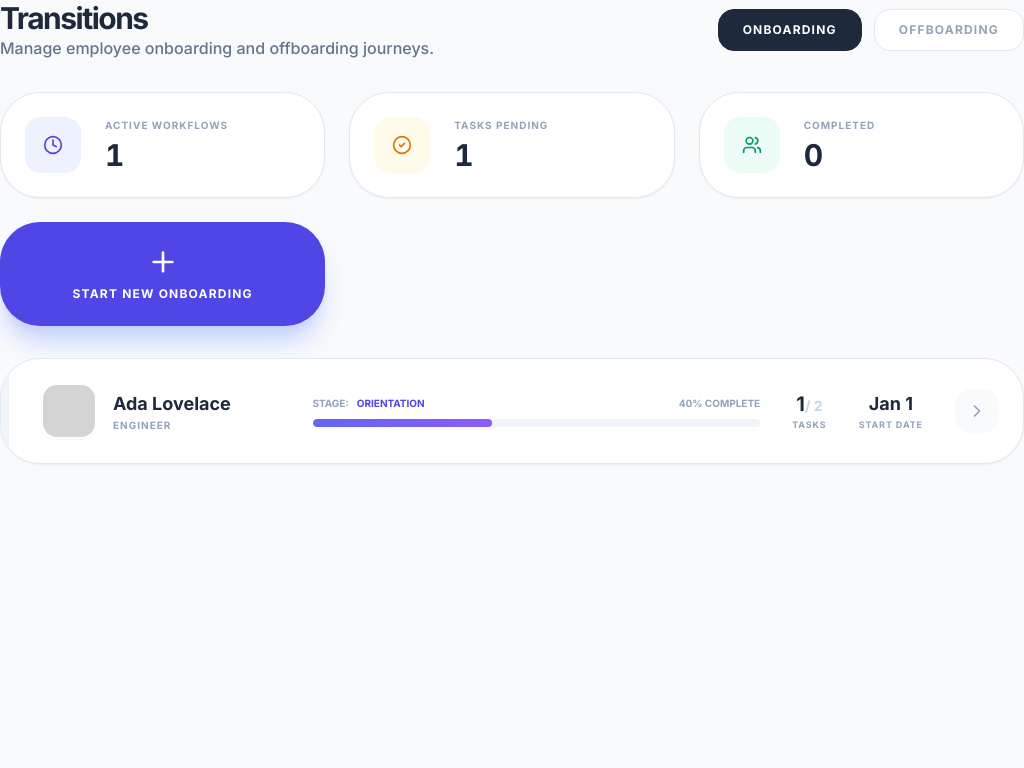
Test: Onboarding (admin transitions board) › cancels the journey and closes the detail panel once confirmed
The width and height of the screenshot is (1024, 768).
Step 1. Click the heading "Ada Lovelace" → click(172, 404), box [113, 390, 231, 418]
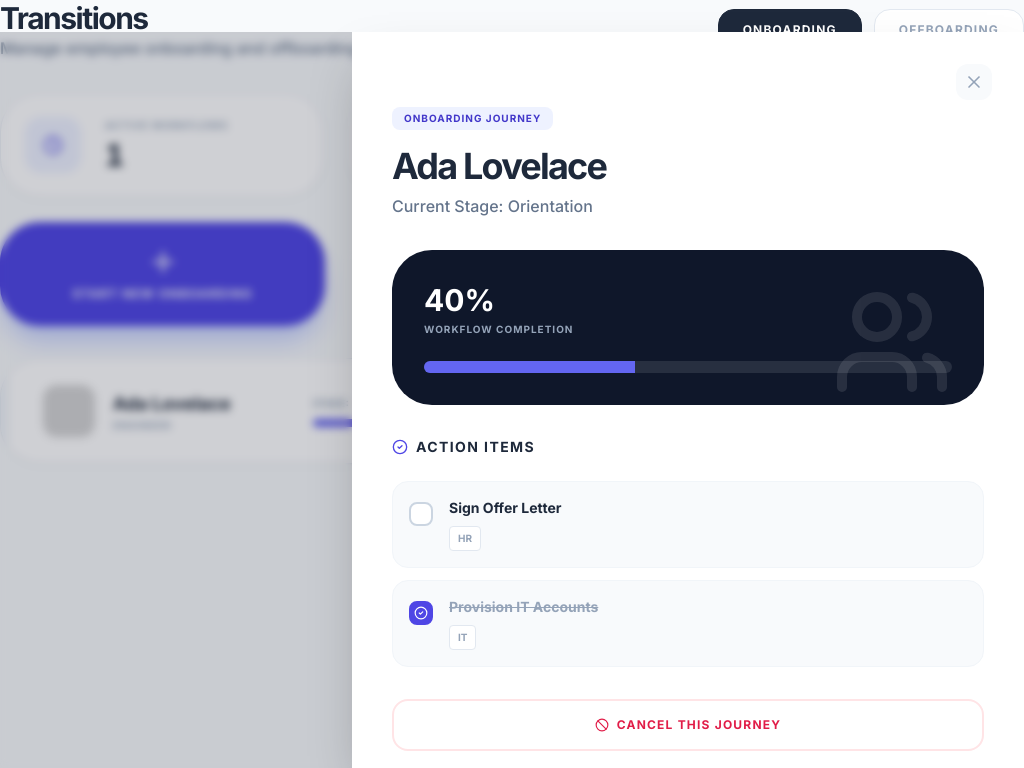
Now the button "Cancel This Journey" is shown
Step 2. Click the button "Cancel This Journey" → click(688, 725), box [392, 699, 984, 751]
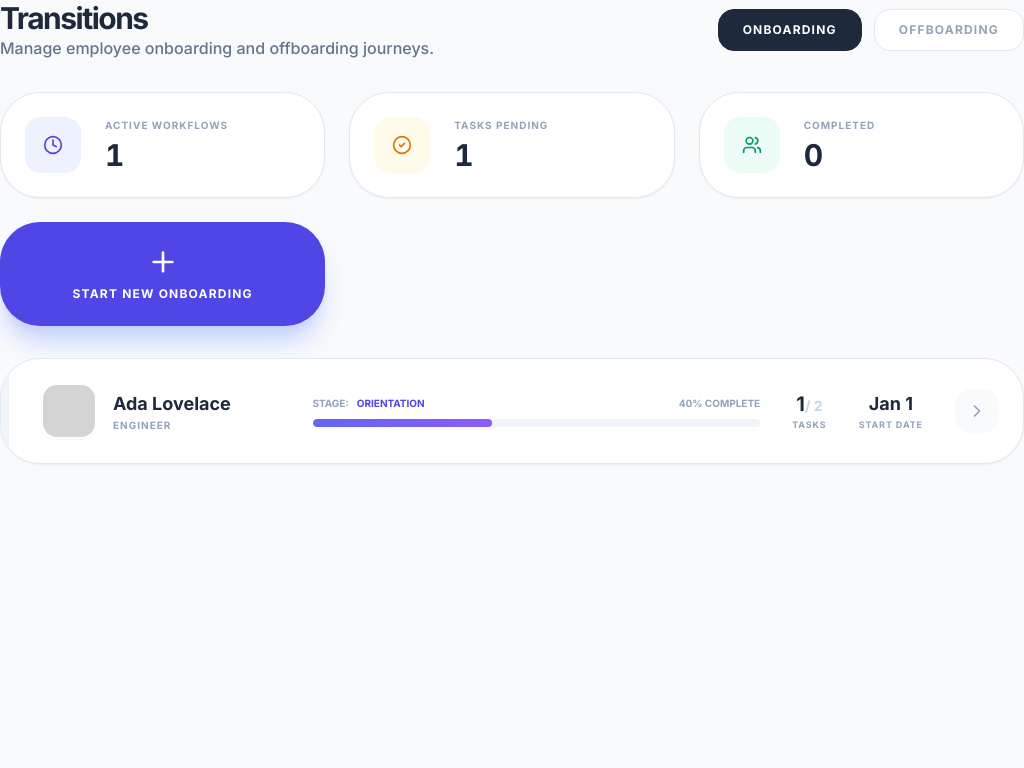
Now the button "Cancel This Journey" is gone
